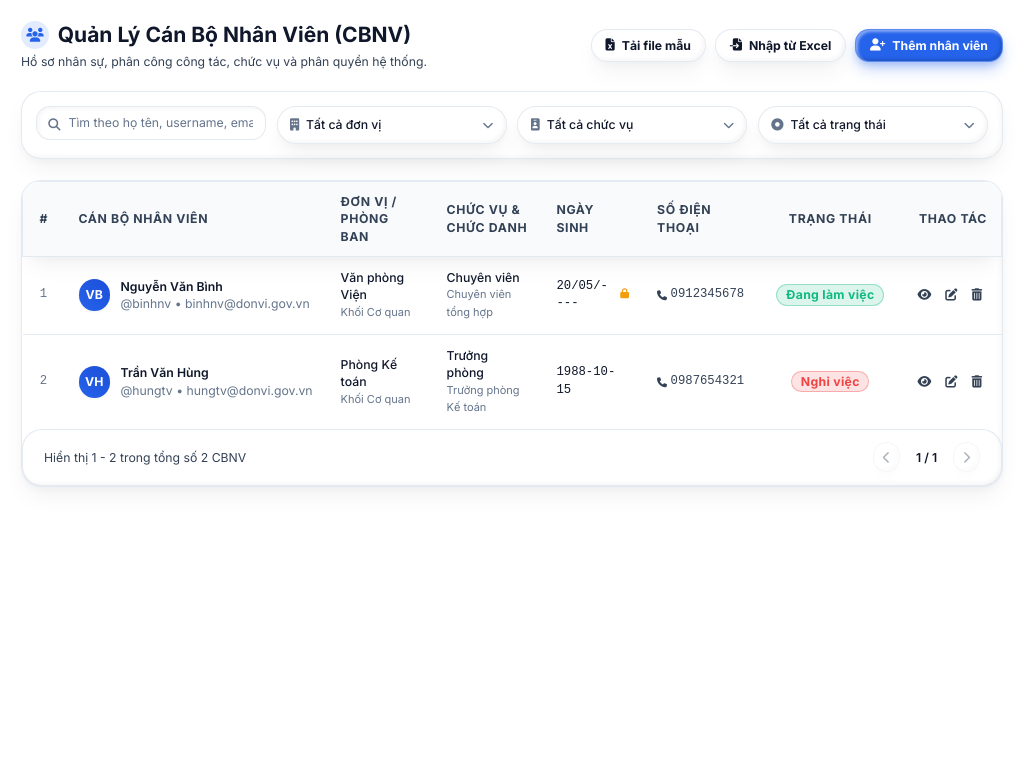
Test: EmployeesPage Component (Issue #24) › opens detail modal on clicking employee name
This screenshot has width=1024, height=768.
Check: the text "Nguyễn Văn Bình" is shown, box [120,278,223,294]
Click the button titled "Xem chi tiết" in the row of "VB".
click(924, 295)  # box [912,281,937,309]
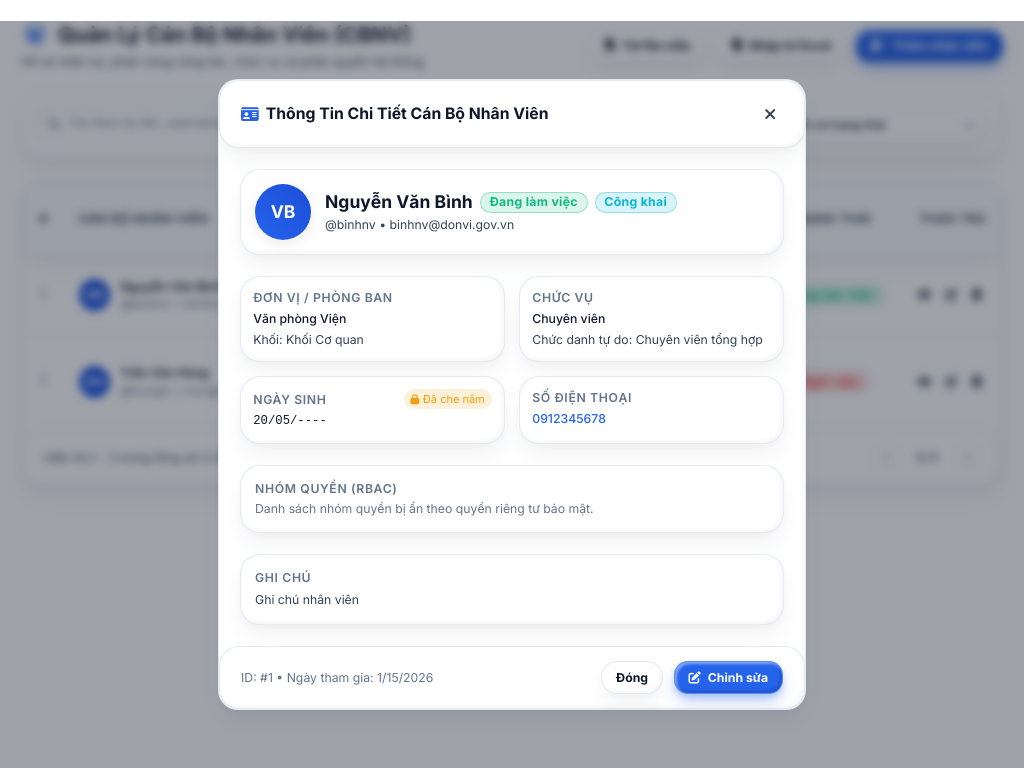
Check: the heading "Thông Tin Chi Tiết Cán Bộ Nhân Viên" is shown, box [266,102,548,126]
